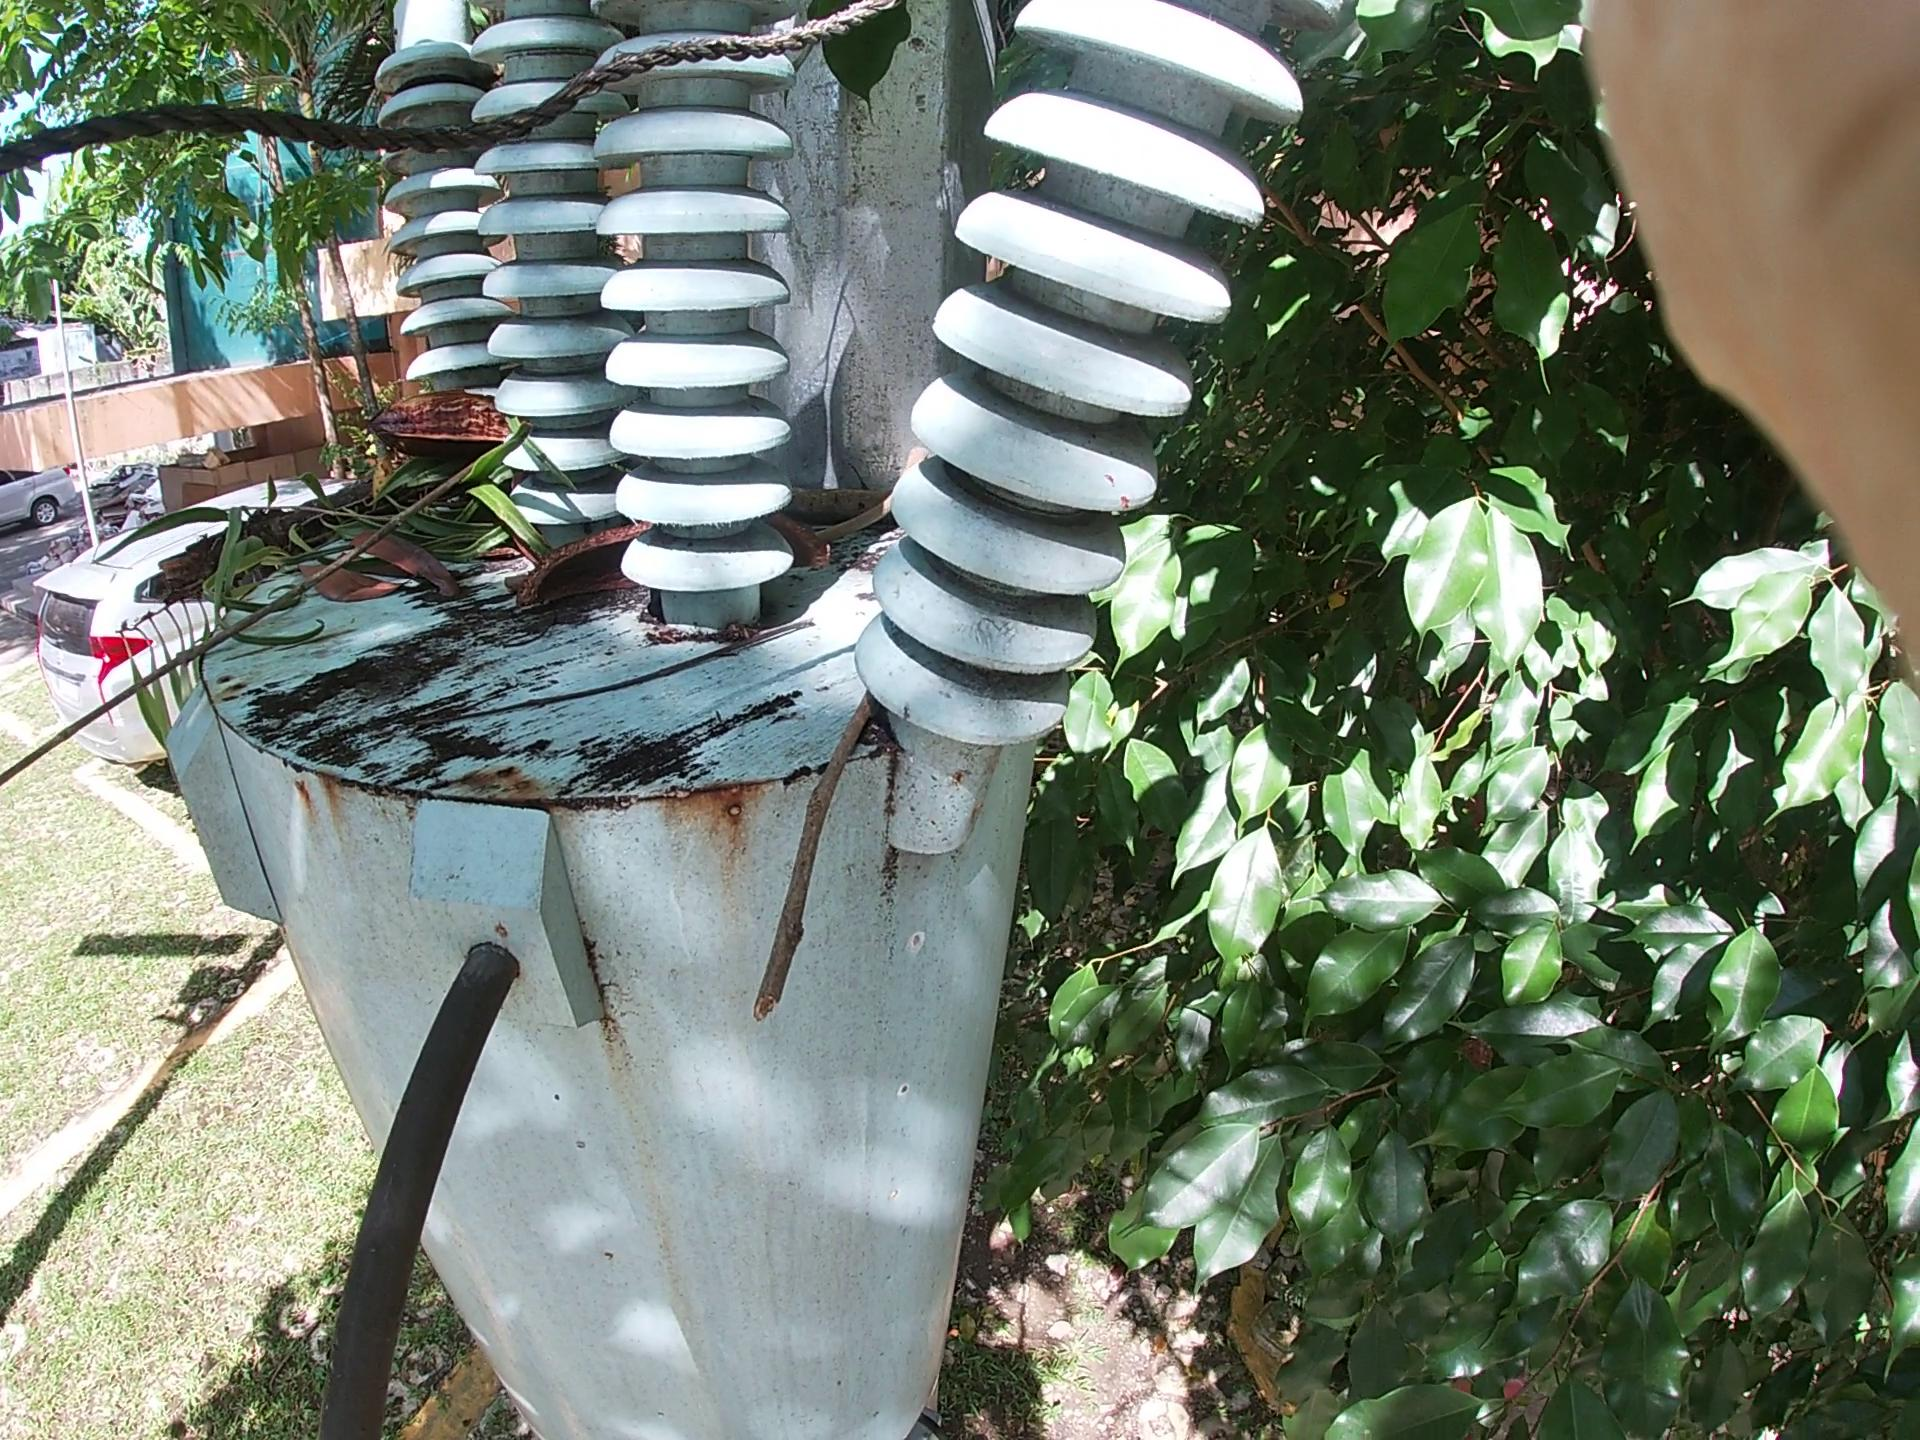branch with leaves: (97, 351, 658, 709)
leaf: (301, 511, 475, 663)
mahogany fruit: (497, 483, 812, 632), (354, 371, 528, 486)
tree branch: (70, 437, 470, 790), (720, 675, 925, 1072), (381, 629, 863, 749)
